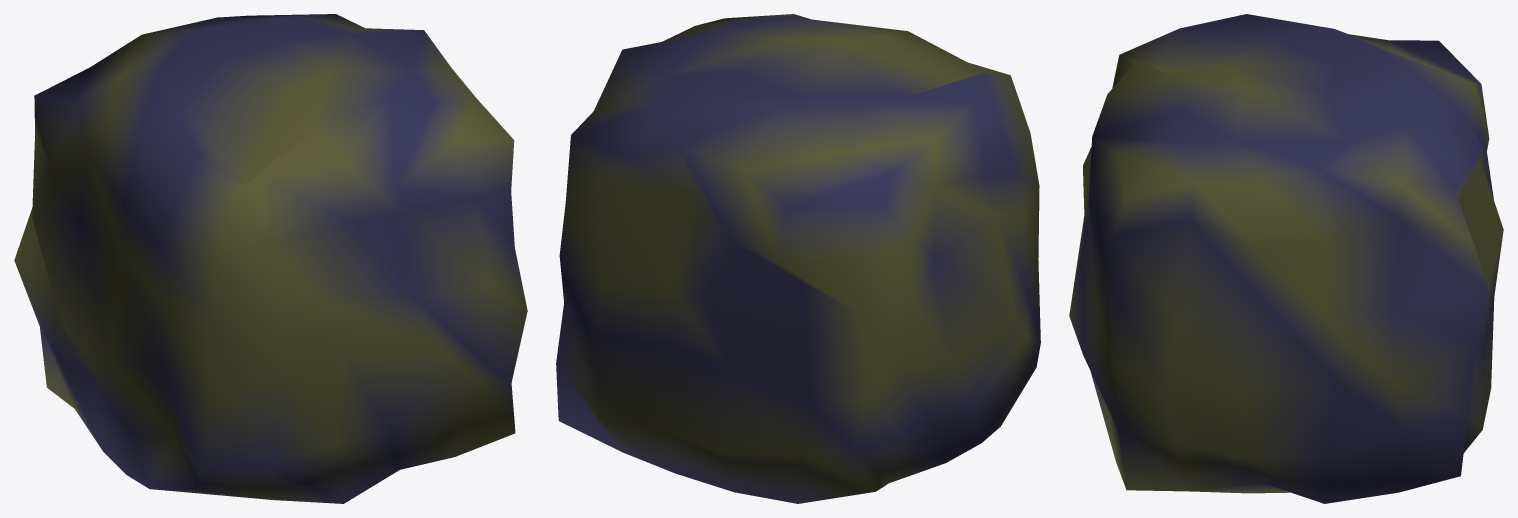
File: fertilizer.glb
3 renders of one model, left to right at view 1: azimuth 30°, elevation 25°; view 2: azimuth 150°, elevation 25°; view 3: azimuth 270°, elevation 25°, orthographic.
Parts seen in each view (by area): view 1: fertilizer; view 2: fertilizer; view 3: fertilizer.
Part boxes in pixels (<box>): fertilizer: <box>14,14,527,503</box>; fertilizer: <box>556,14,1040,503</box>; fertilizer: <box>1069,14,1503,503</box>.
Size of the model in its own units: 1.38 by 1.34 by 1.36.
